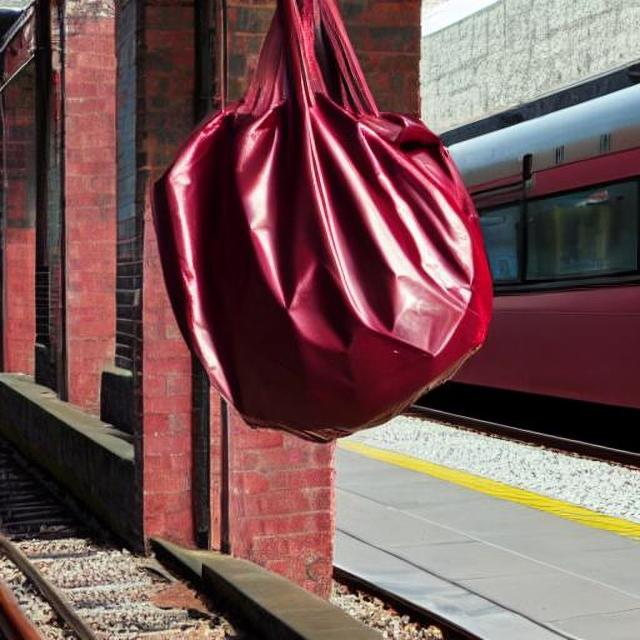plastic bag: (152, 19, 489, 450)
